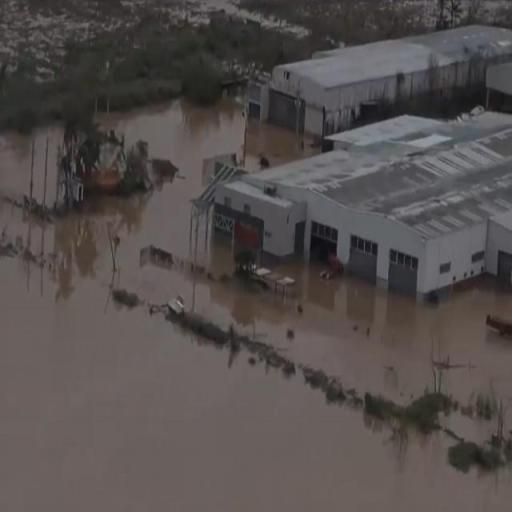flood: (0, 106, 512, 512), (0, 126, 65, 206), (99, 194, 168, 243)
house: (247, 28, 512, 146), (212, 168, 323, 274)
